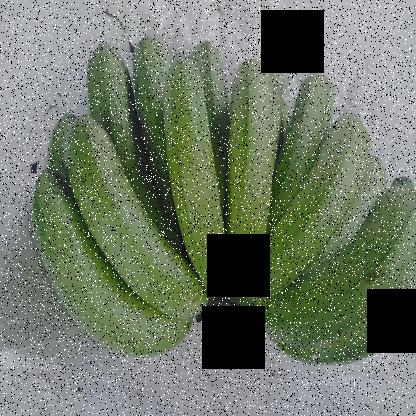freshunripe: (222, 48, 287, 278)
unripe: (62, 114, 213, 313), (244, 104, 373, 309), (265, 169, 415, 341), (29, 181, 156, 370), (162, 51, 232, 294), (69, 32, 144, 187)
